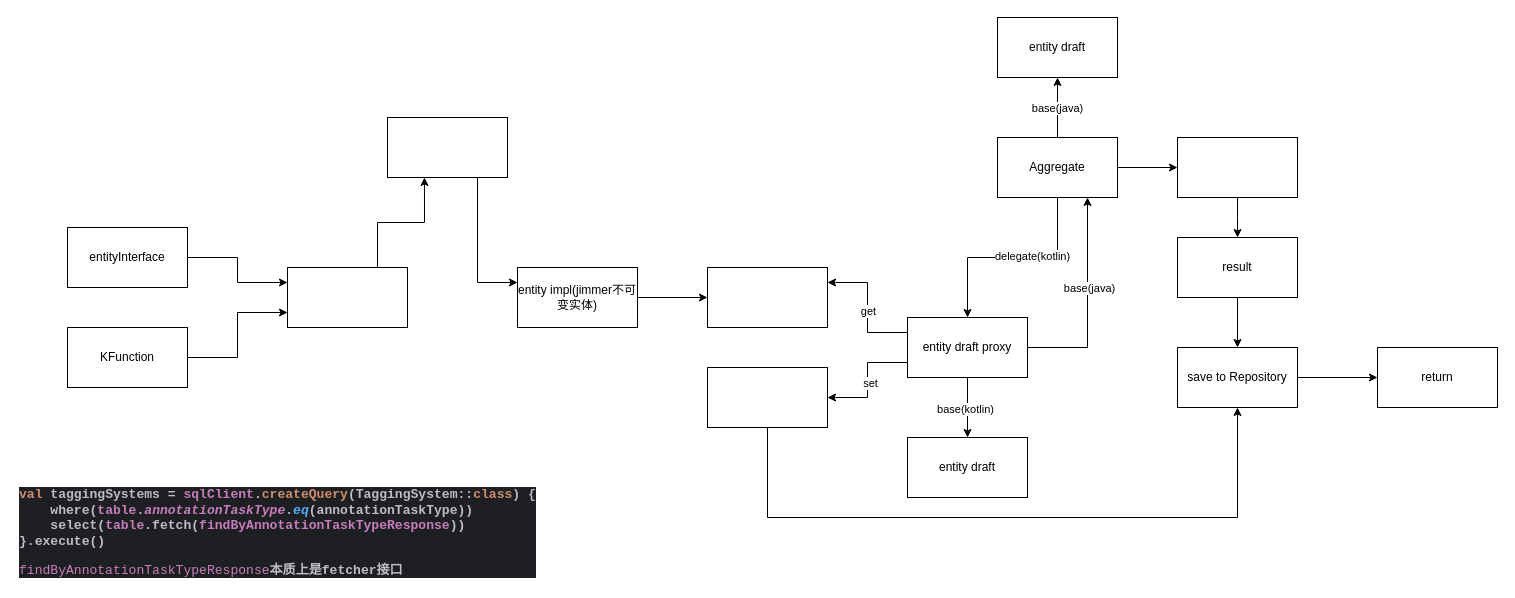
The diagram is 1515 pixels wide and 598 high, and some of its shapes have lost their labels. Here are the shapes that lost their labels. From the top down, the box of each, then its label:
(386, 116, 508, 178): Repository
(1176, 136, 1298, 198): doSomeThing
(286, 266, 408, 328): Fetcher
(706, 266, 828, 328): entity draft temp
(706, 366, 828, 428): entity draft changed
